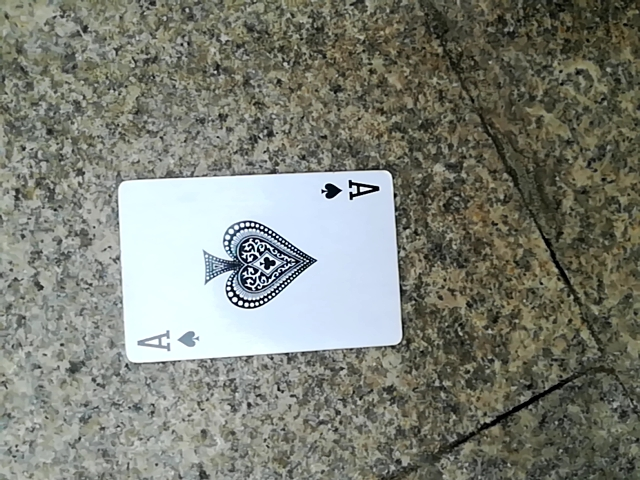ht a: (114, 162, 395, 350)
